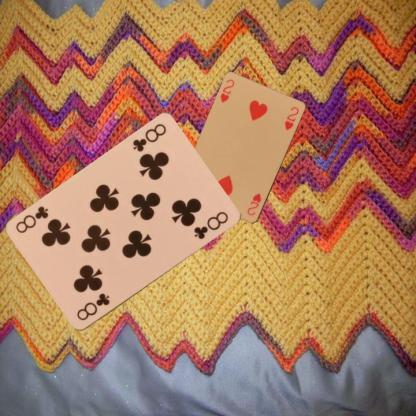2h: (217, 77, 236, 104), (244, 190, 262, 216)
8c: (130, 121, 168, 154), (74, 290, 111, 322)
